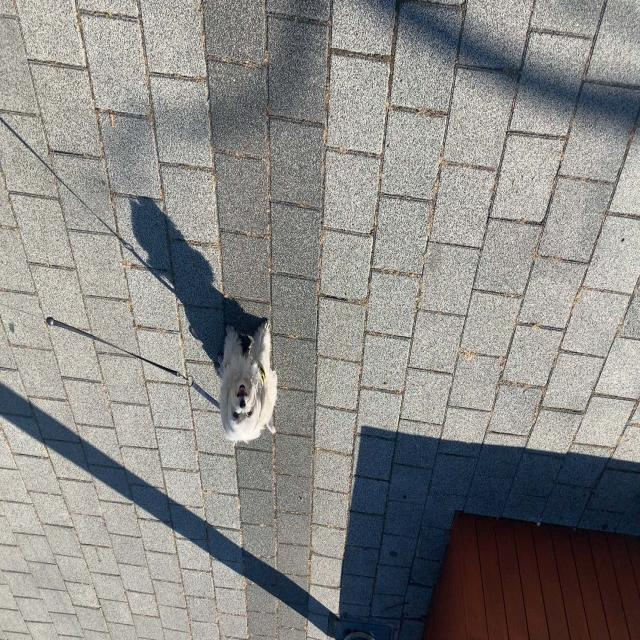Dog: (362, 195, 423, 321)
